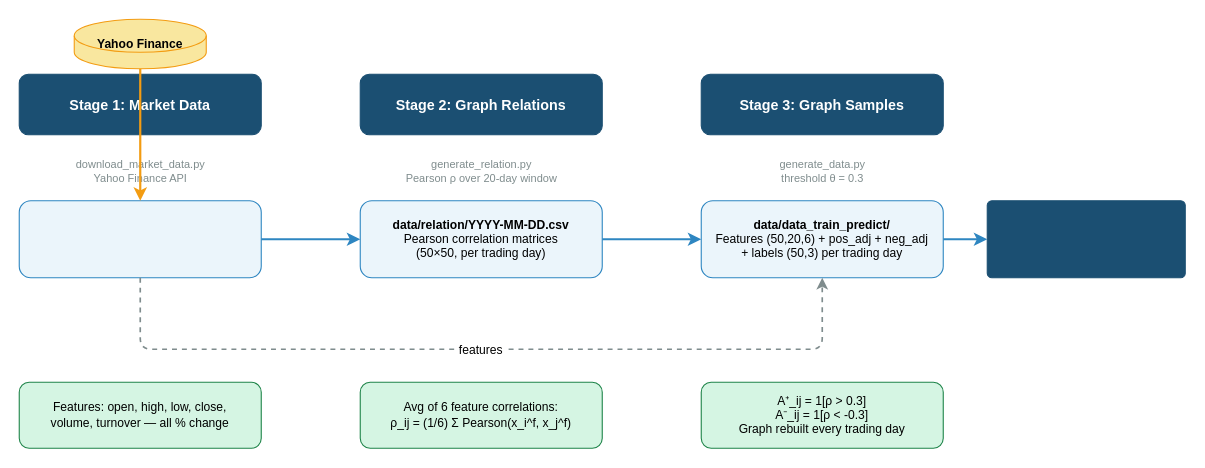
Some shapes in this 1205 by 468 pixel diagram are drawn without their labels. The centre of each missing label's shape, as x and y in pixels:
data/nifty50.pkl OHLCV + pct-change labels (50 stocks, 2015-2026): (139,239)
THGNN Model (train_ic_ranked.py): (1085,239)
